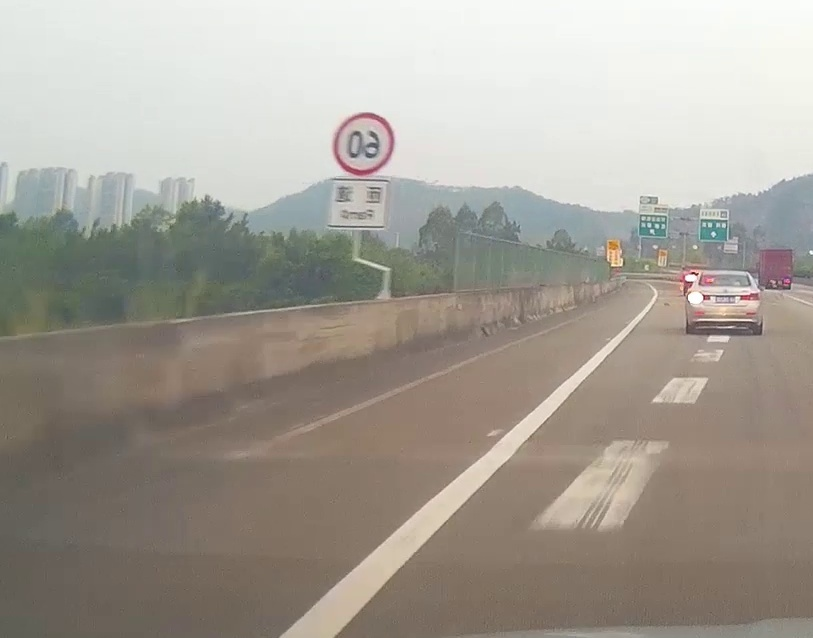L_light: (687, 292, 711, 304)
R_light: (740, 293, 761, 300)
T_light: (719, 283, 733, 287)
day-left: (685, 271, 763, 335)
